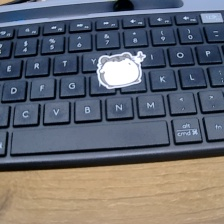mouse: (96, 45, 149, 94)
